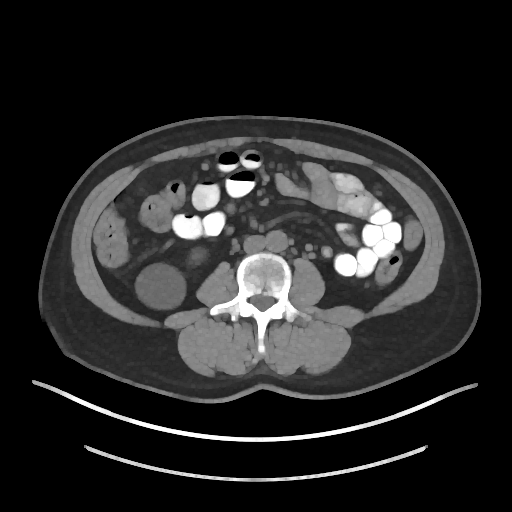Lesion: (131, 257, 190, 314)
